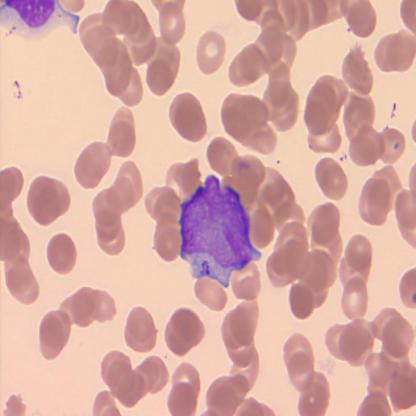Blast: (177, 173, 263, 289)
